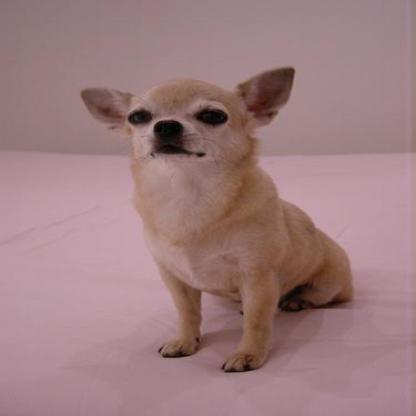dog: (76, 62, 368, 377)
